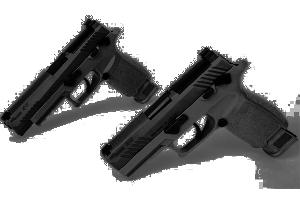handgun: (108, 48, 290, 188), (4, 17, 153, 140)
